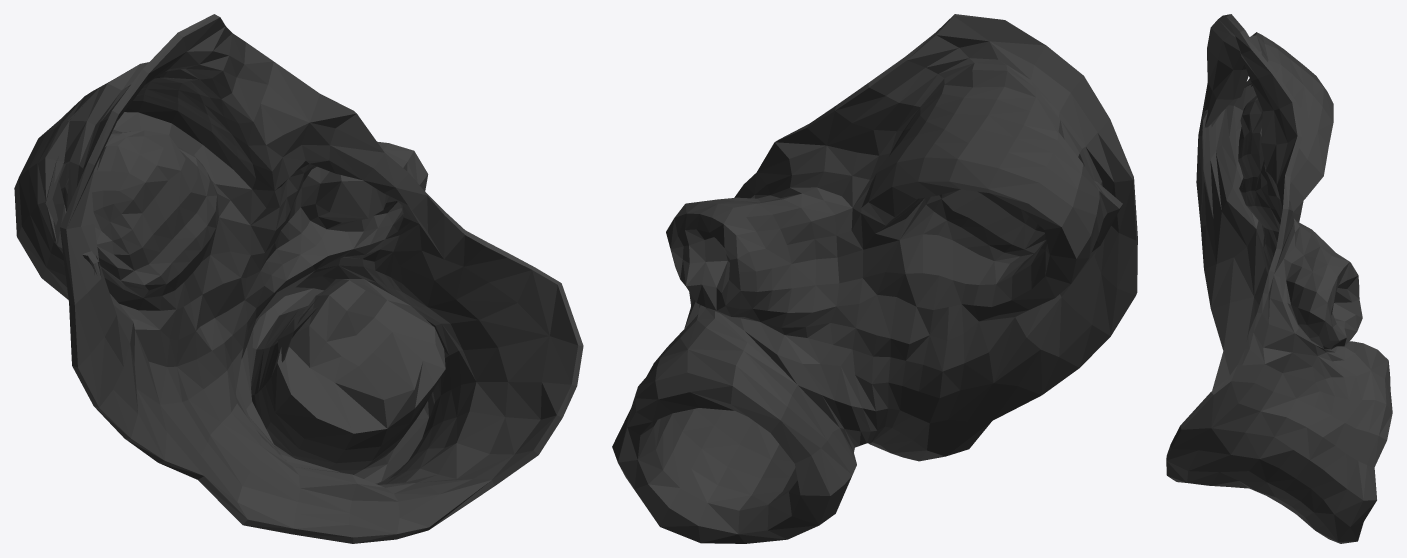
File: Heart_pulmonary_venous_vasculature.glb
3 views of the same model, side by side, from view 1: azimuth 30°, elevation 25°; view 2: azimuth 150°, elevation 25°; view 3: azimuth 270°, elevation 25° (orthographic). The views are drawn at different scales.
Parts seen in each view (by area): view 1: Heart_pulmonary_venous_vasculature; view 2: Heart_pulmonary_venous_vasculature; view 3: Heart_pulmonary_venous_vasculature.
Boxes of the visible parts, x1,y1,x2,y2 form: Heart_pulmonary_venous_vasculature: [14, 14, 583, 543]; Heart_pulmonary_venous_vasculature: [612, 14, 1137, 543]; Heart_pulmonary_venous_vasculature: [1166, 14, 1392, 543].
Size of the model in its own units: 0.2217 by 0.2447 by 0.1168.
Materials: 1 (1 with a texture image).
